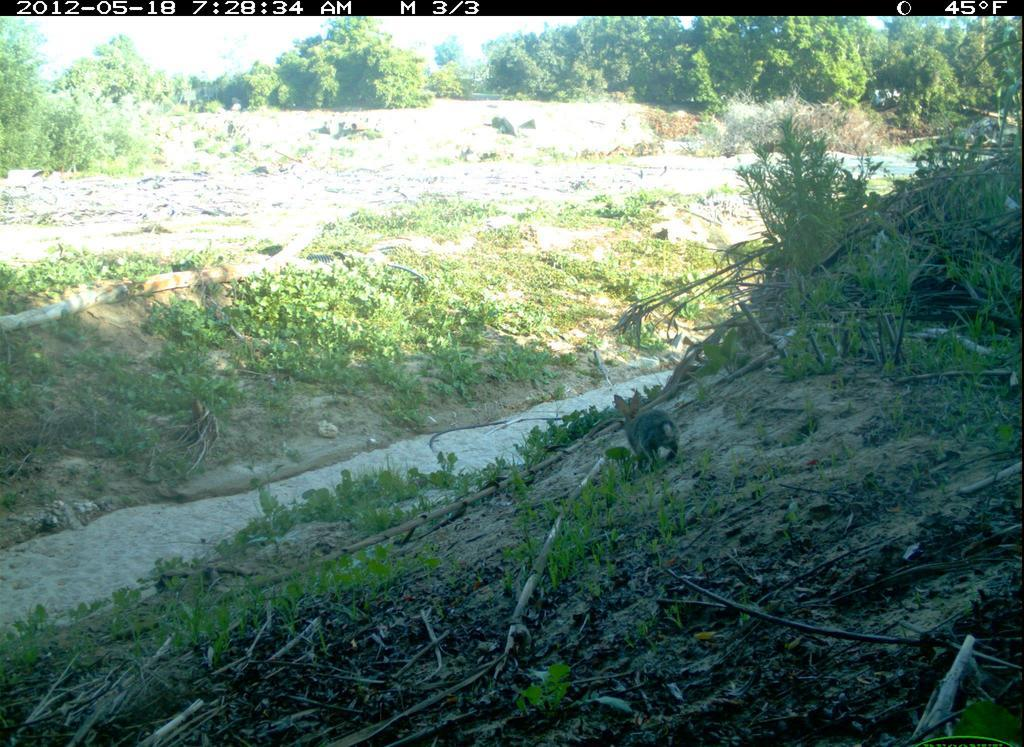rabbit: (607, 392, 689, 472)
